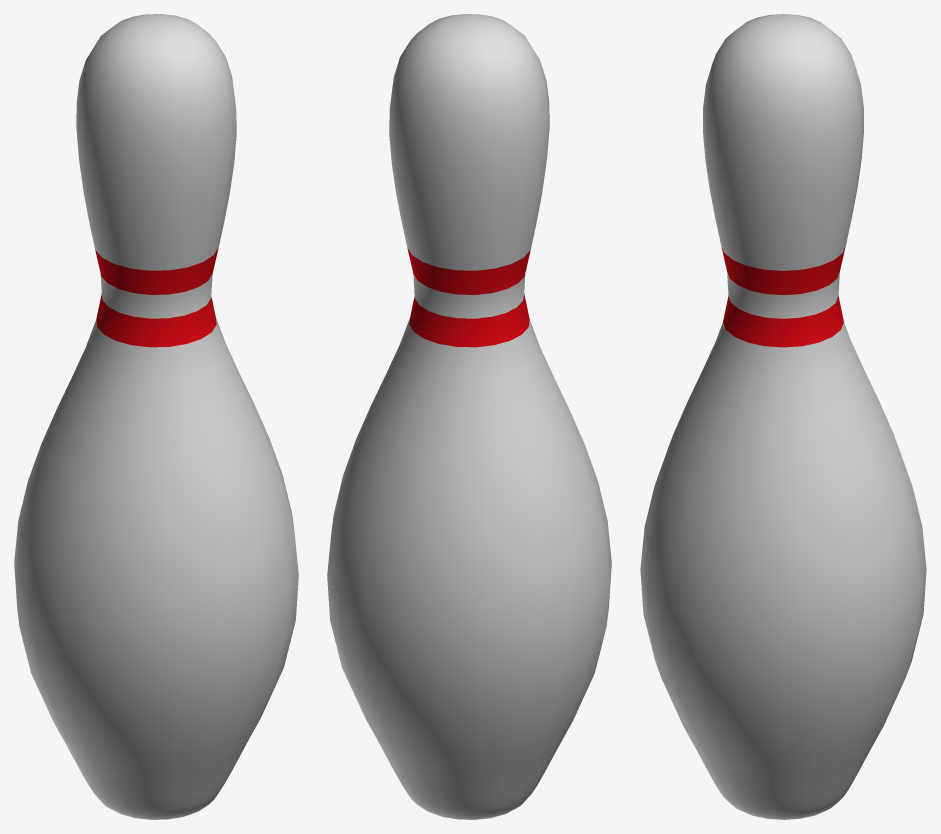
File: Pin.fbx
The picture shows the model from 3 angles, left to right: view 1: azimuth 30°, elevation 25°; view 2: azimuth 150°, elevation 25°; view 3: azimuth 270°, elevation 25°; orthographic projection.
Visible parts, largest first — view 1: Pin; view 2: Pin; view 3: Pin.
Part boxes in pixels (bbox=[...]): Pin: bbox=[14, 14, 298, 819]; Pin: bbox=[327, 14, 611, 819]; Pin: bbox=[640, 14, 926, 819].
Bounding box in the file's own units: 100 × 300 × 100.
